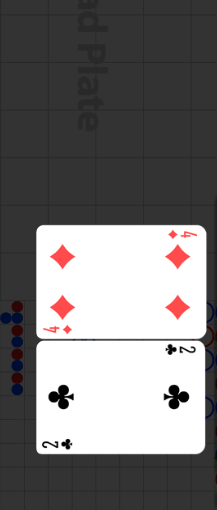2C: (41, 437, 75, 451)
4D: (166, 228, 198, 241)
